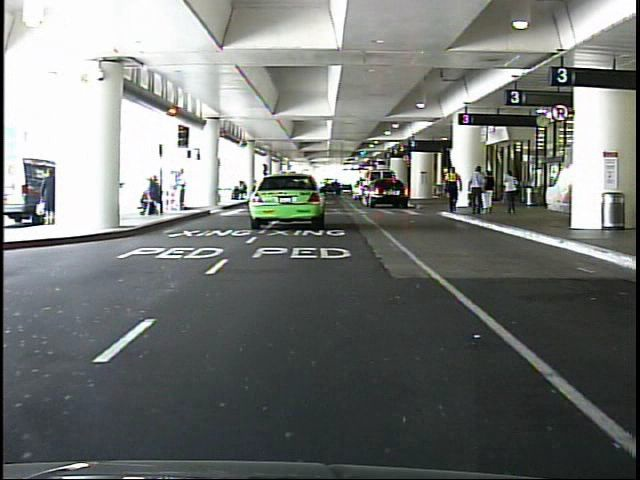person: (39, 168, 68, 226), (441, 162, 465, 218), (496, 169, 522, 218), (467, 162, 487, 218), (482, 167, 499, 218), (177, 168, 194, 215)
